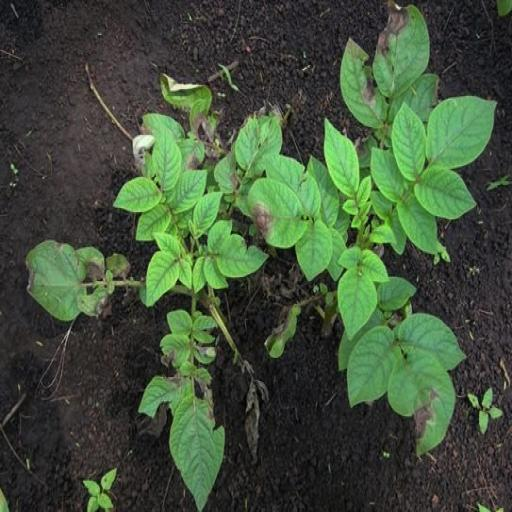Late Blight: (384, 348, 456, 460), (370, 2, 432, 104), (245, 173, 309, 251)
